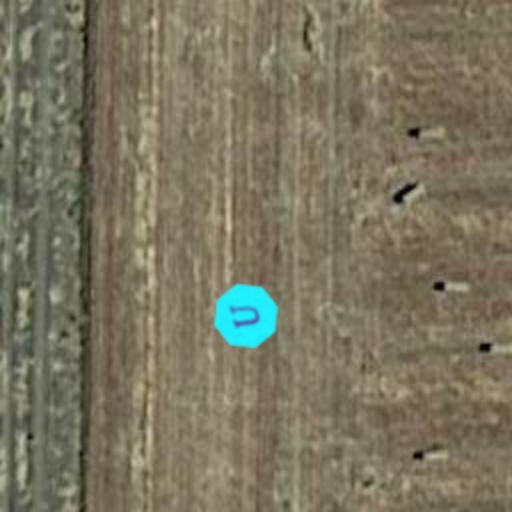octagon: (204, 274, 288, 358)
